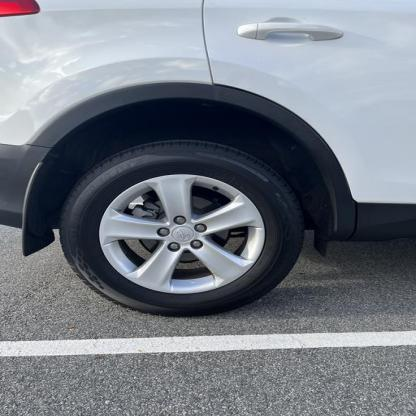Tire: (58, 141, 308, 317)
